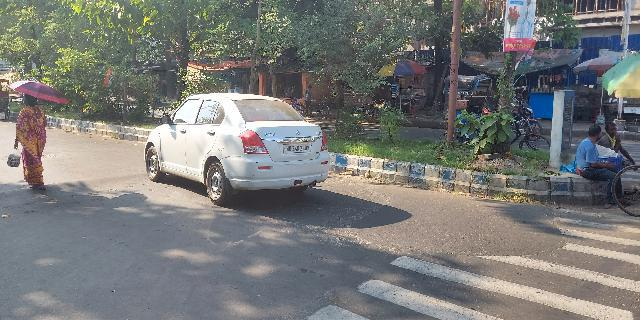Car: (138, 90, 331, 213)
